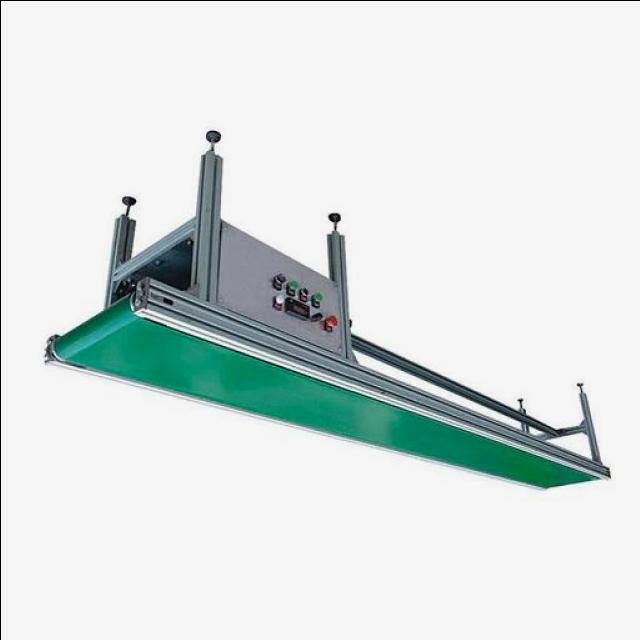conveyor: (47, 288, 604, 489)
